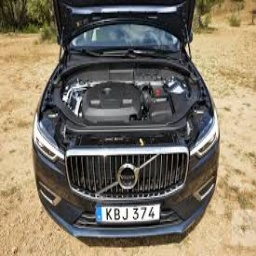sv_licence_plate: (96, 205, 160, 221)
